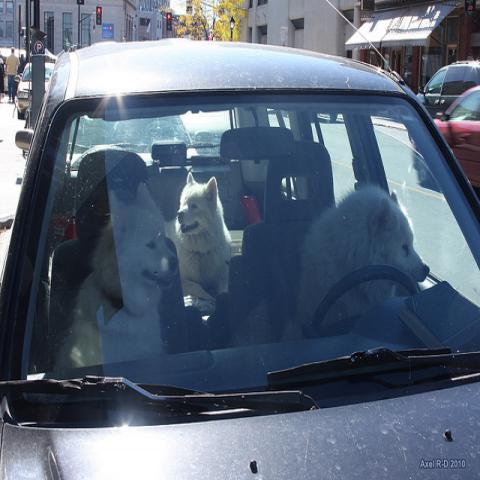car: (0, 0, 479, 479), (436, 87, 479, 192), (418, 64, 479, 117), (14, 62, 55, 120)
